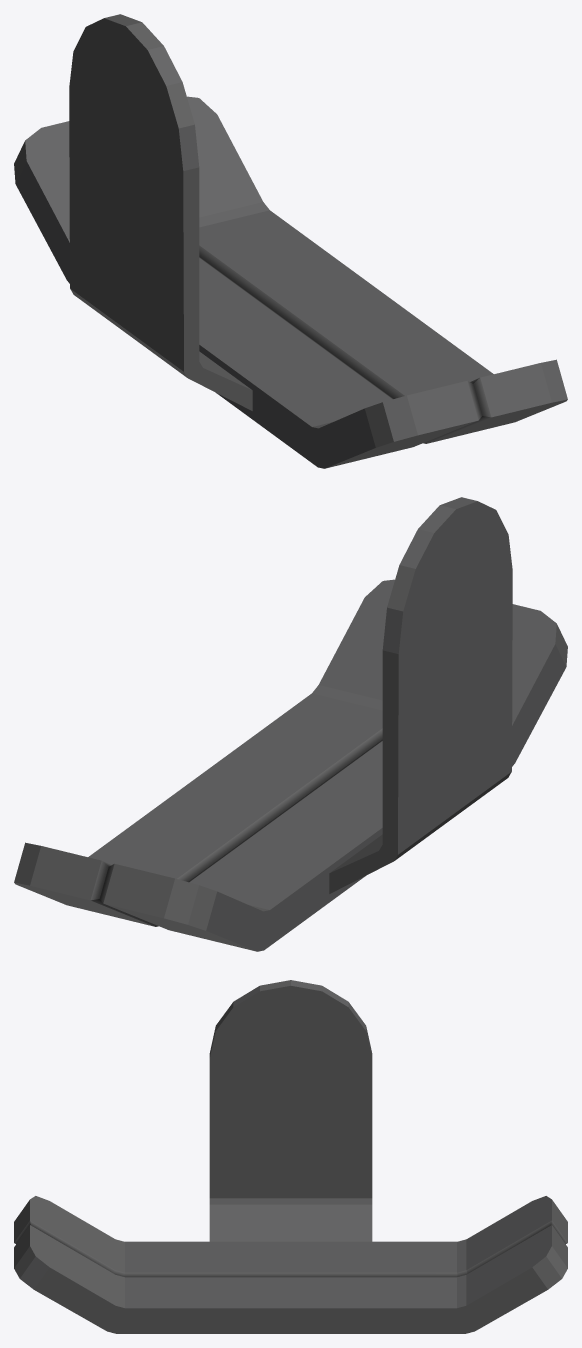
The model's file is Cargo_drone_001_chassis_001.fbx.
The picture shows the model from 3 angles, top to bottom: view 1: azimuth 30°, elevation 25°; view 2: azimuth 150°, elevation 25°; view 3: azimuth 270°, elevation 25°; orthographic projection. The views are drawn at different scales.
Parts seen in each view (by area): view 1: Cargo_drone_001_chassis_001; view 2: Cargo_drone_001_chassis_001; view 3: Cargo_drone_001_chassis_001.
Part boxes in pixels (box(x1,y1,x2,y2)): Cargo_drone_001_chassis_001: box(14, 14, 567, 468); Cargo_drone_001_chassis_001: box(14, 497, 567, 951); Cargo_drone_001_chassis_001: box(14, 980, 567, 1333).
Bounding box in the file's own units: 26.07 × 67.26 × 35.26.
